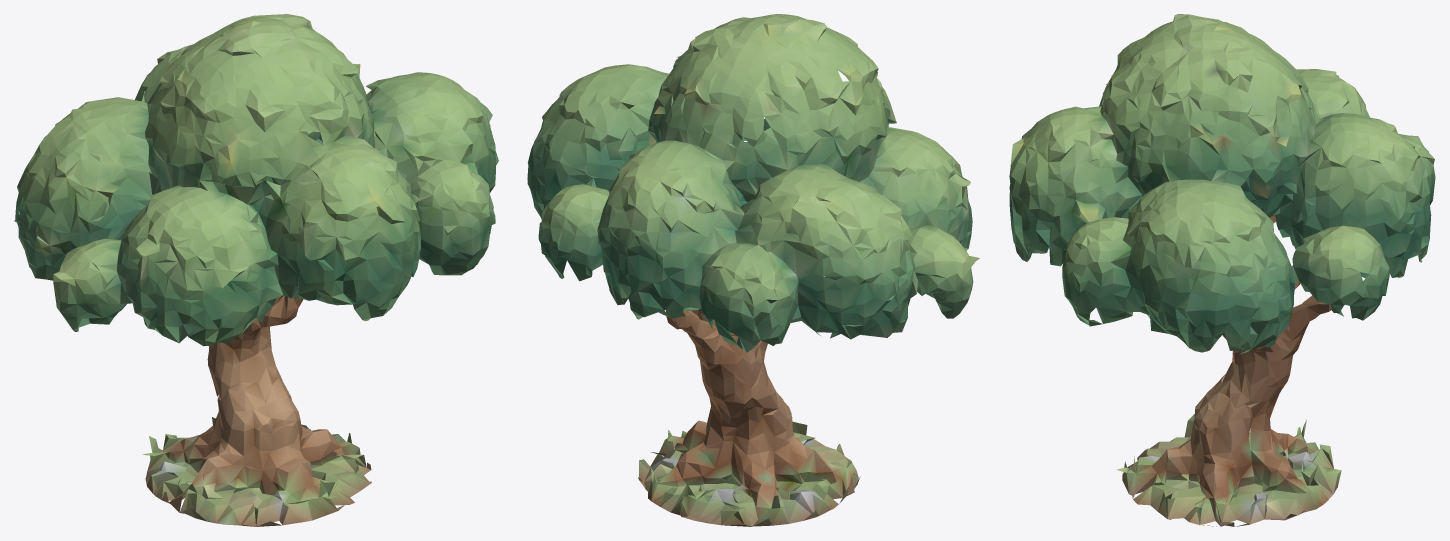
The model's file is world_stylized_tree_lod1.glb.
The picture shows the model from 3 angles, left to right: view 1: azimuth 30°, elevation 25°; view 2: azimuth 150°, elevation 25°; view 3: azimuth 270°, elevation 25°; orthographic projection. The views are drawn at different scales.
Parts seen in each view (by area): view 1: world; view 2: world; view 3: world.
Boxes of the visible parts, bbox=[...] form: world: bbox=[14, 14, 498, 526]; world: bbox=[527, 14, 979, 526]; world: bbox=[1009, 14, 1435, 526].
Bounding box in the file's own units: 1.87 × 1.88 × 1.62.
